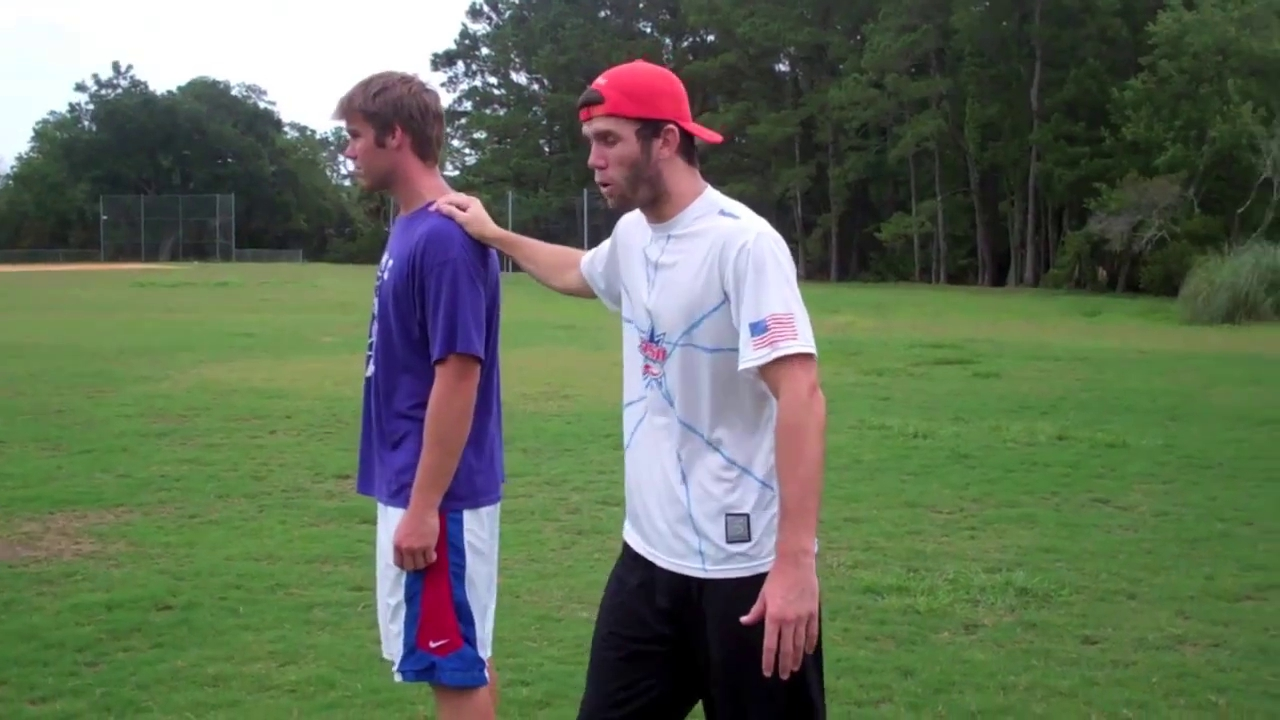person: (430, 61, 829, 720), (333, 70, 498, 719)
